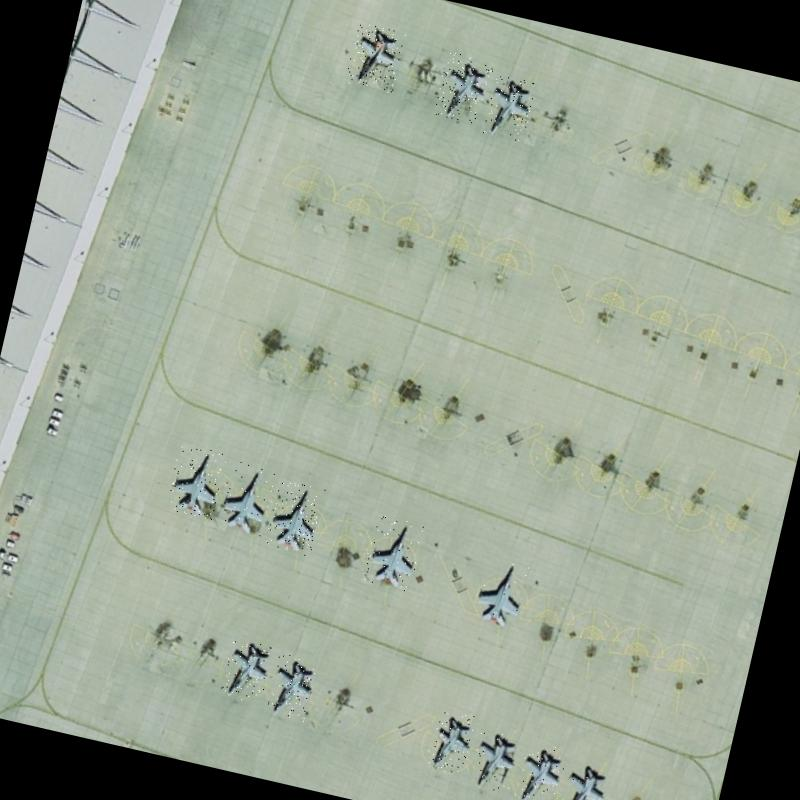A16: (360, 514, 424, 592), (468, 554, 531, 633), (164, 442, 228, 519), (214, 459, 276, 538), (264, 478, 325, 556), (344, 21, 407, 94), (432, 51, 494, 125), (468, 722, 522, 794), (482, 73, 536, 142), (265, 652, 318, 722), (219, 638, 274, 704), (426, 706, 476, 776), (511, 740, 567, 800), (557, 756, 612, 800)
